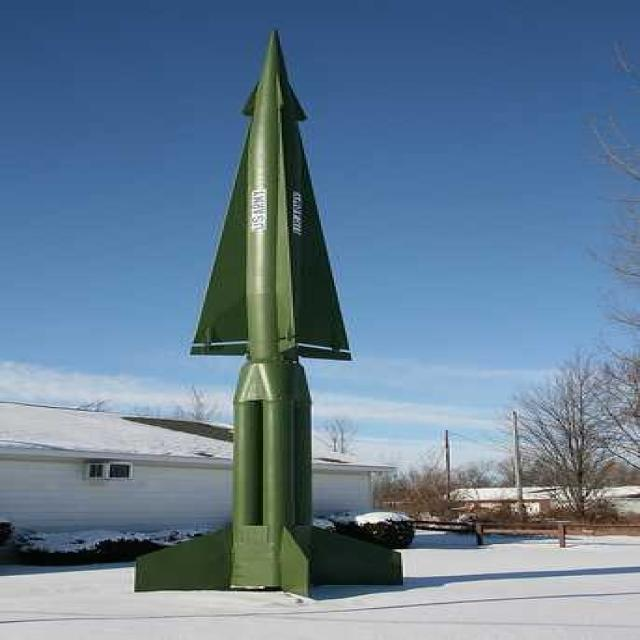missile: (138, 26, 404, 606)
